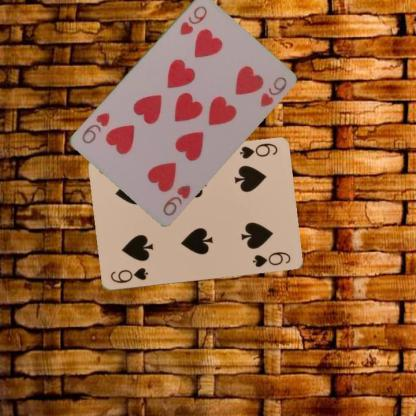6s: (108, 265, 149, 285), (237, 140, 278, 160)
9h: (176, 2, 209, 38), (160, 182, 192, 217)
